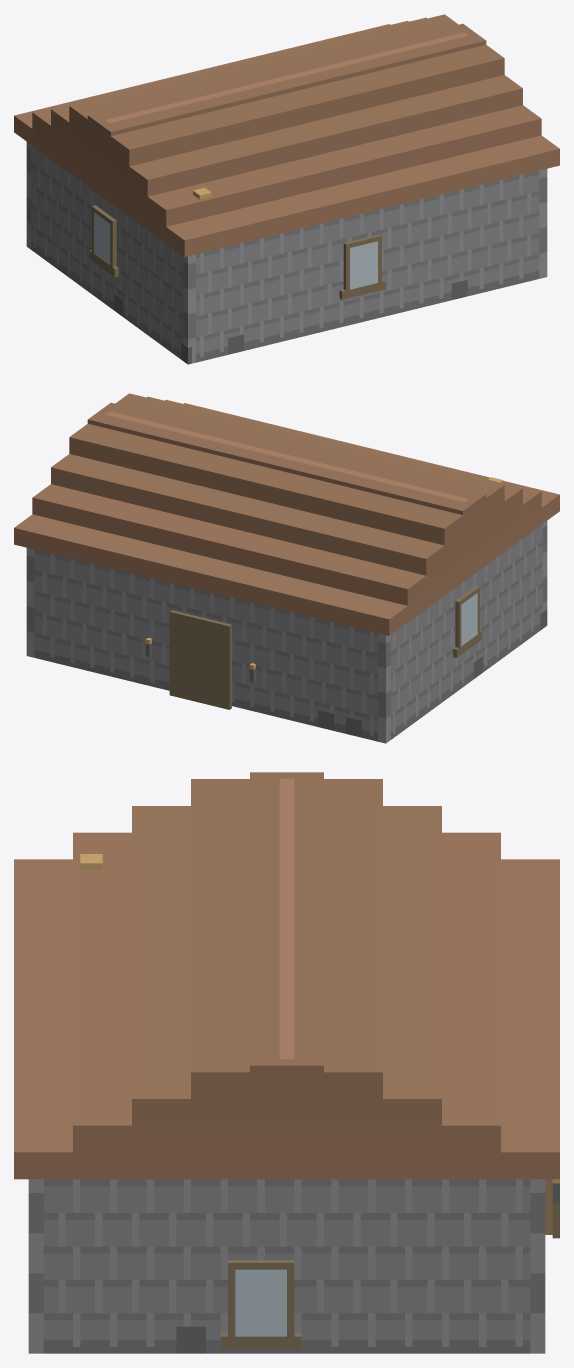
Rendered from herreria_03.glb.
3 views of the same model, one above another, from view 1: azimuth 30°, elevation 25°; view 2: azimuth 150°, elevation 25°; view 3: azimuth 270°, elevation 25° (orthographic). The views are drawn at different scales.
Parts seen in each view (by area): view 1: herreria_03; view 2: herreria_03; view 3: herreria_03.
Boxes of the visible parts, box(x1,y1,x2,y2) form: herreria_03: box(14, 14, 559, 364); herreria_03: box(14, 393, 559, 743); herreria_03: box(14, 772, 559, 1353).
Size of the model in its own units: 9.4 by 4.4 by 7.4.
